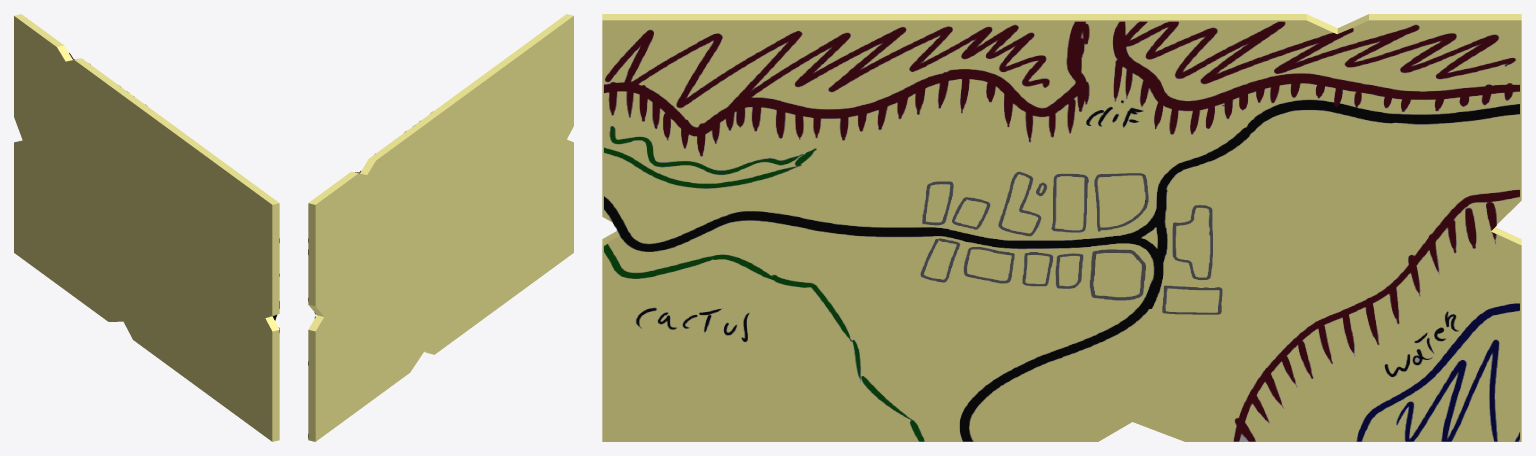
File: Map.fbx
The picture shows the model from 3 angles, left to right: view 1: azimuth 30°, elevation 25°; view 2: azimuth 150°, elevation 25°; view 3: azimuth 270°, elevation 25°; orthographic projection. The views are drawn at different scales.
Visible parts, largest first — view 1: Plane; view 2: Plane; view 3: Plane, Layouttrans.
Part boxes in pixels (bbox=[...]): Plane: bbox=[14, 14, 279, 441]; Plane: bbox=[308, 14, 573, 441]; Plane: bbox=[602, 14, 1521, 441]; Layouttrans: bbox=[604, 21, 1519, 441].
Size of the model in its own units: 13 by 370 by 732.
2 materials, 2 textured.
